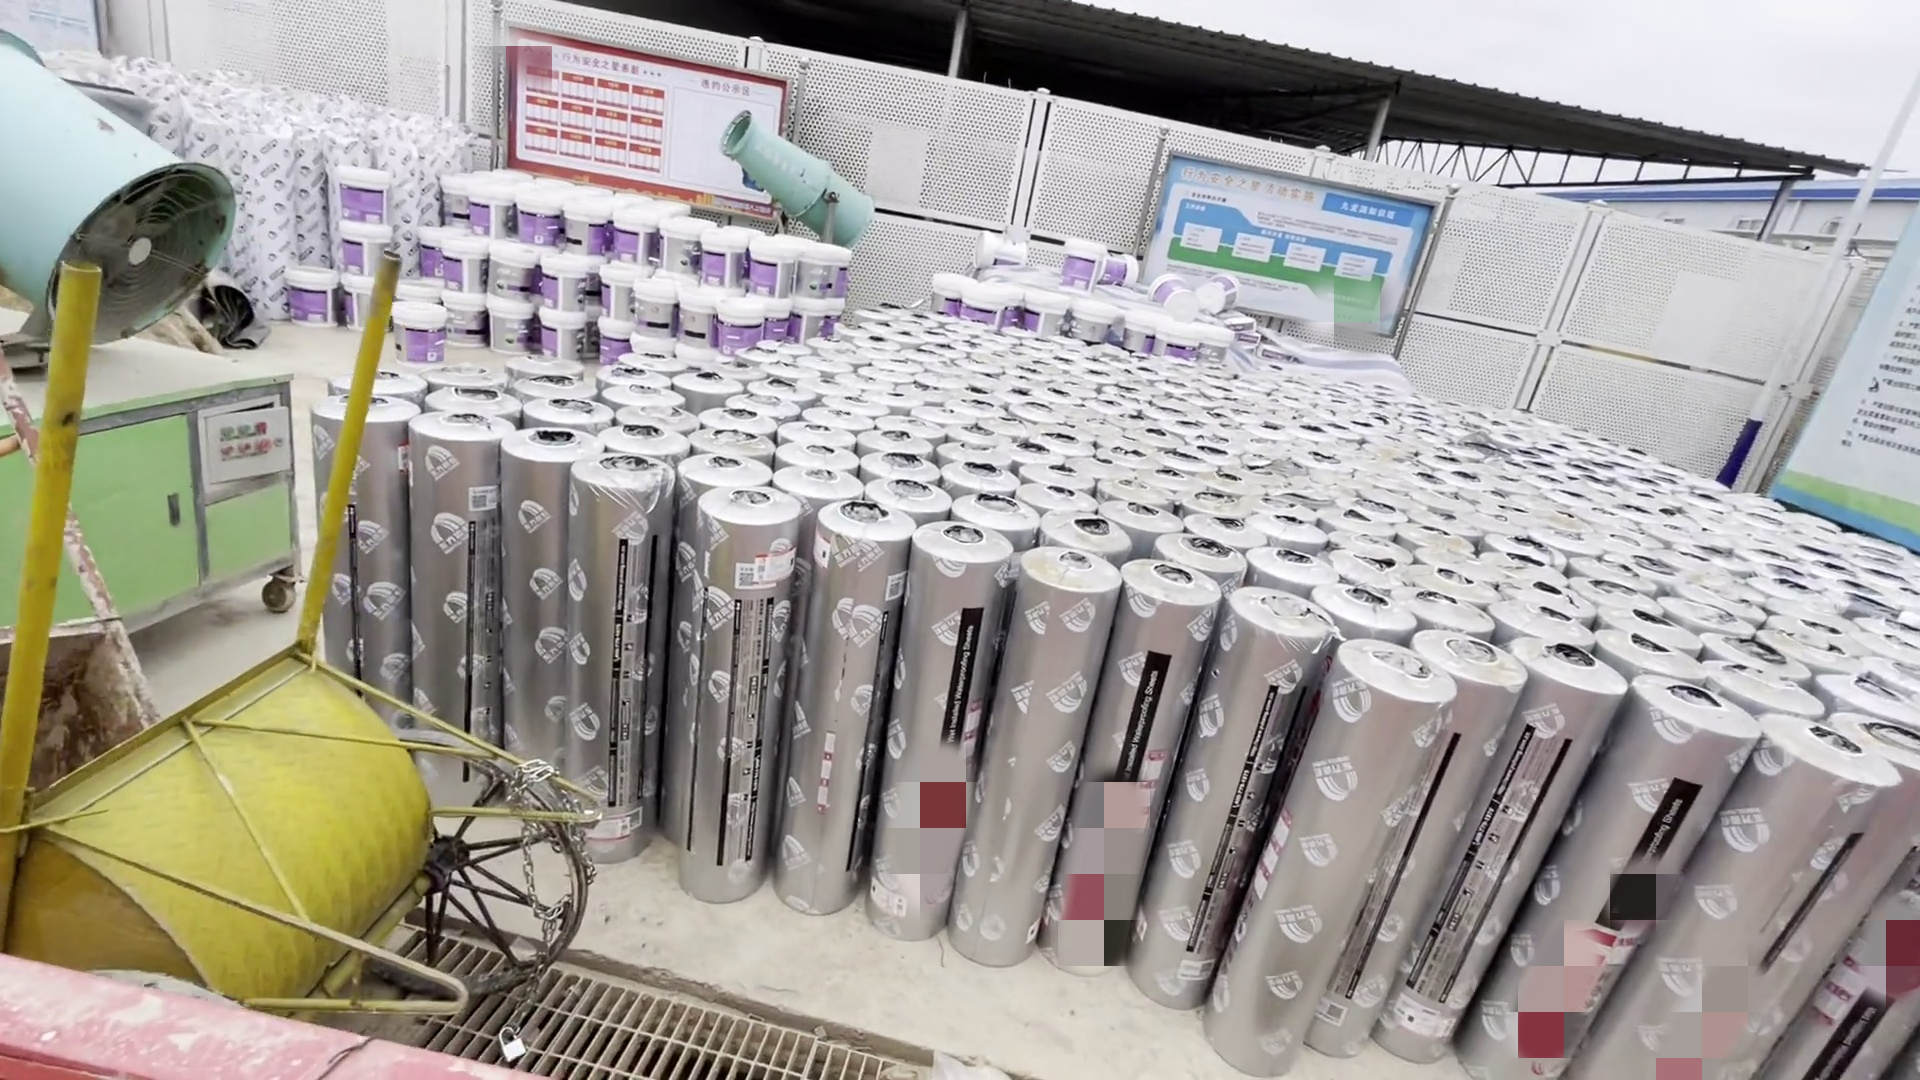handcart: (15, 257, 607, 1042)
